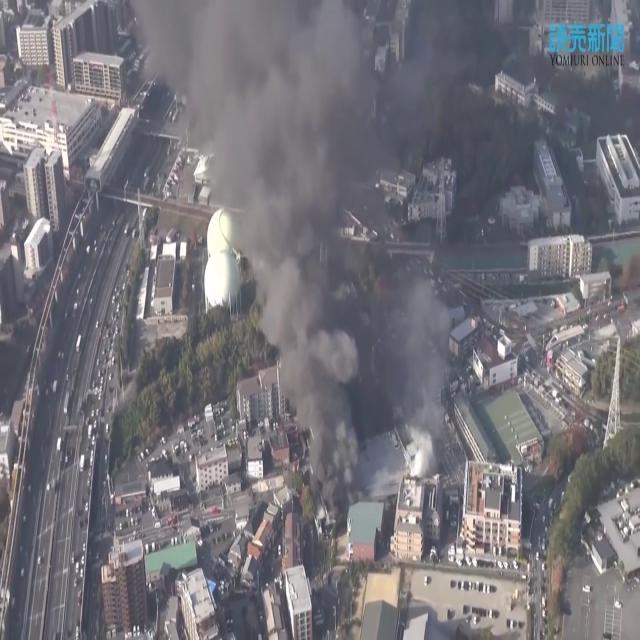Smoke: (184, 0, 466, 540)
